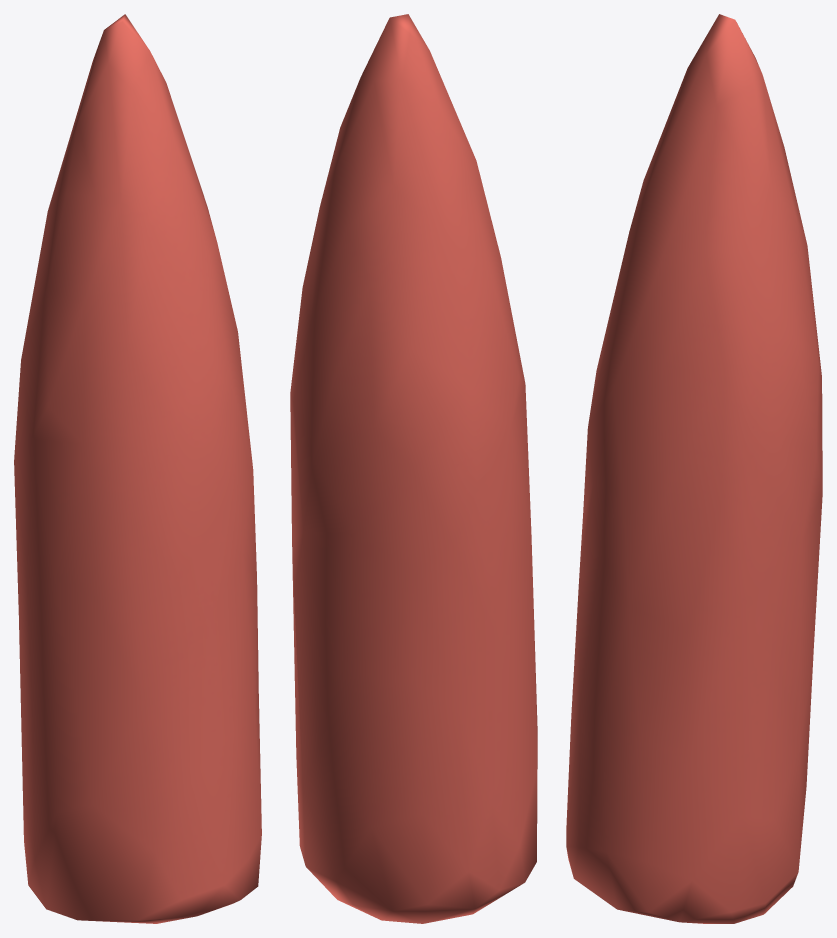
File: AssaultRifle_Bullet.glb
3 renders of one model, left to right at view 1: azimuth 30°, elevation 25°; view 2: azimuth 150°, elevation 25°; view 3: azimuth 270°, elevation 25°, orthographic.
Bounding box in the file's own units: 0.2241 × 0.9098 × 0.2387.
Materials: 1 (1 with a texture image).
